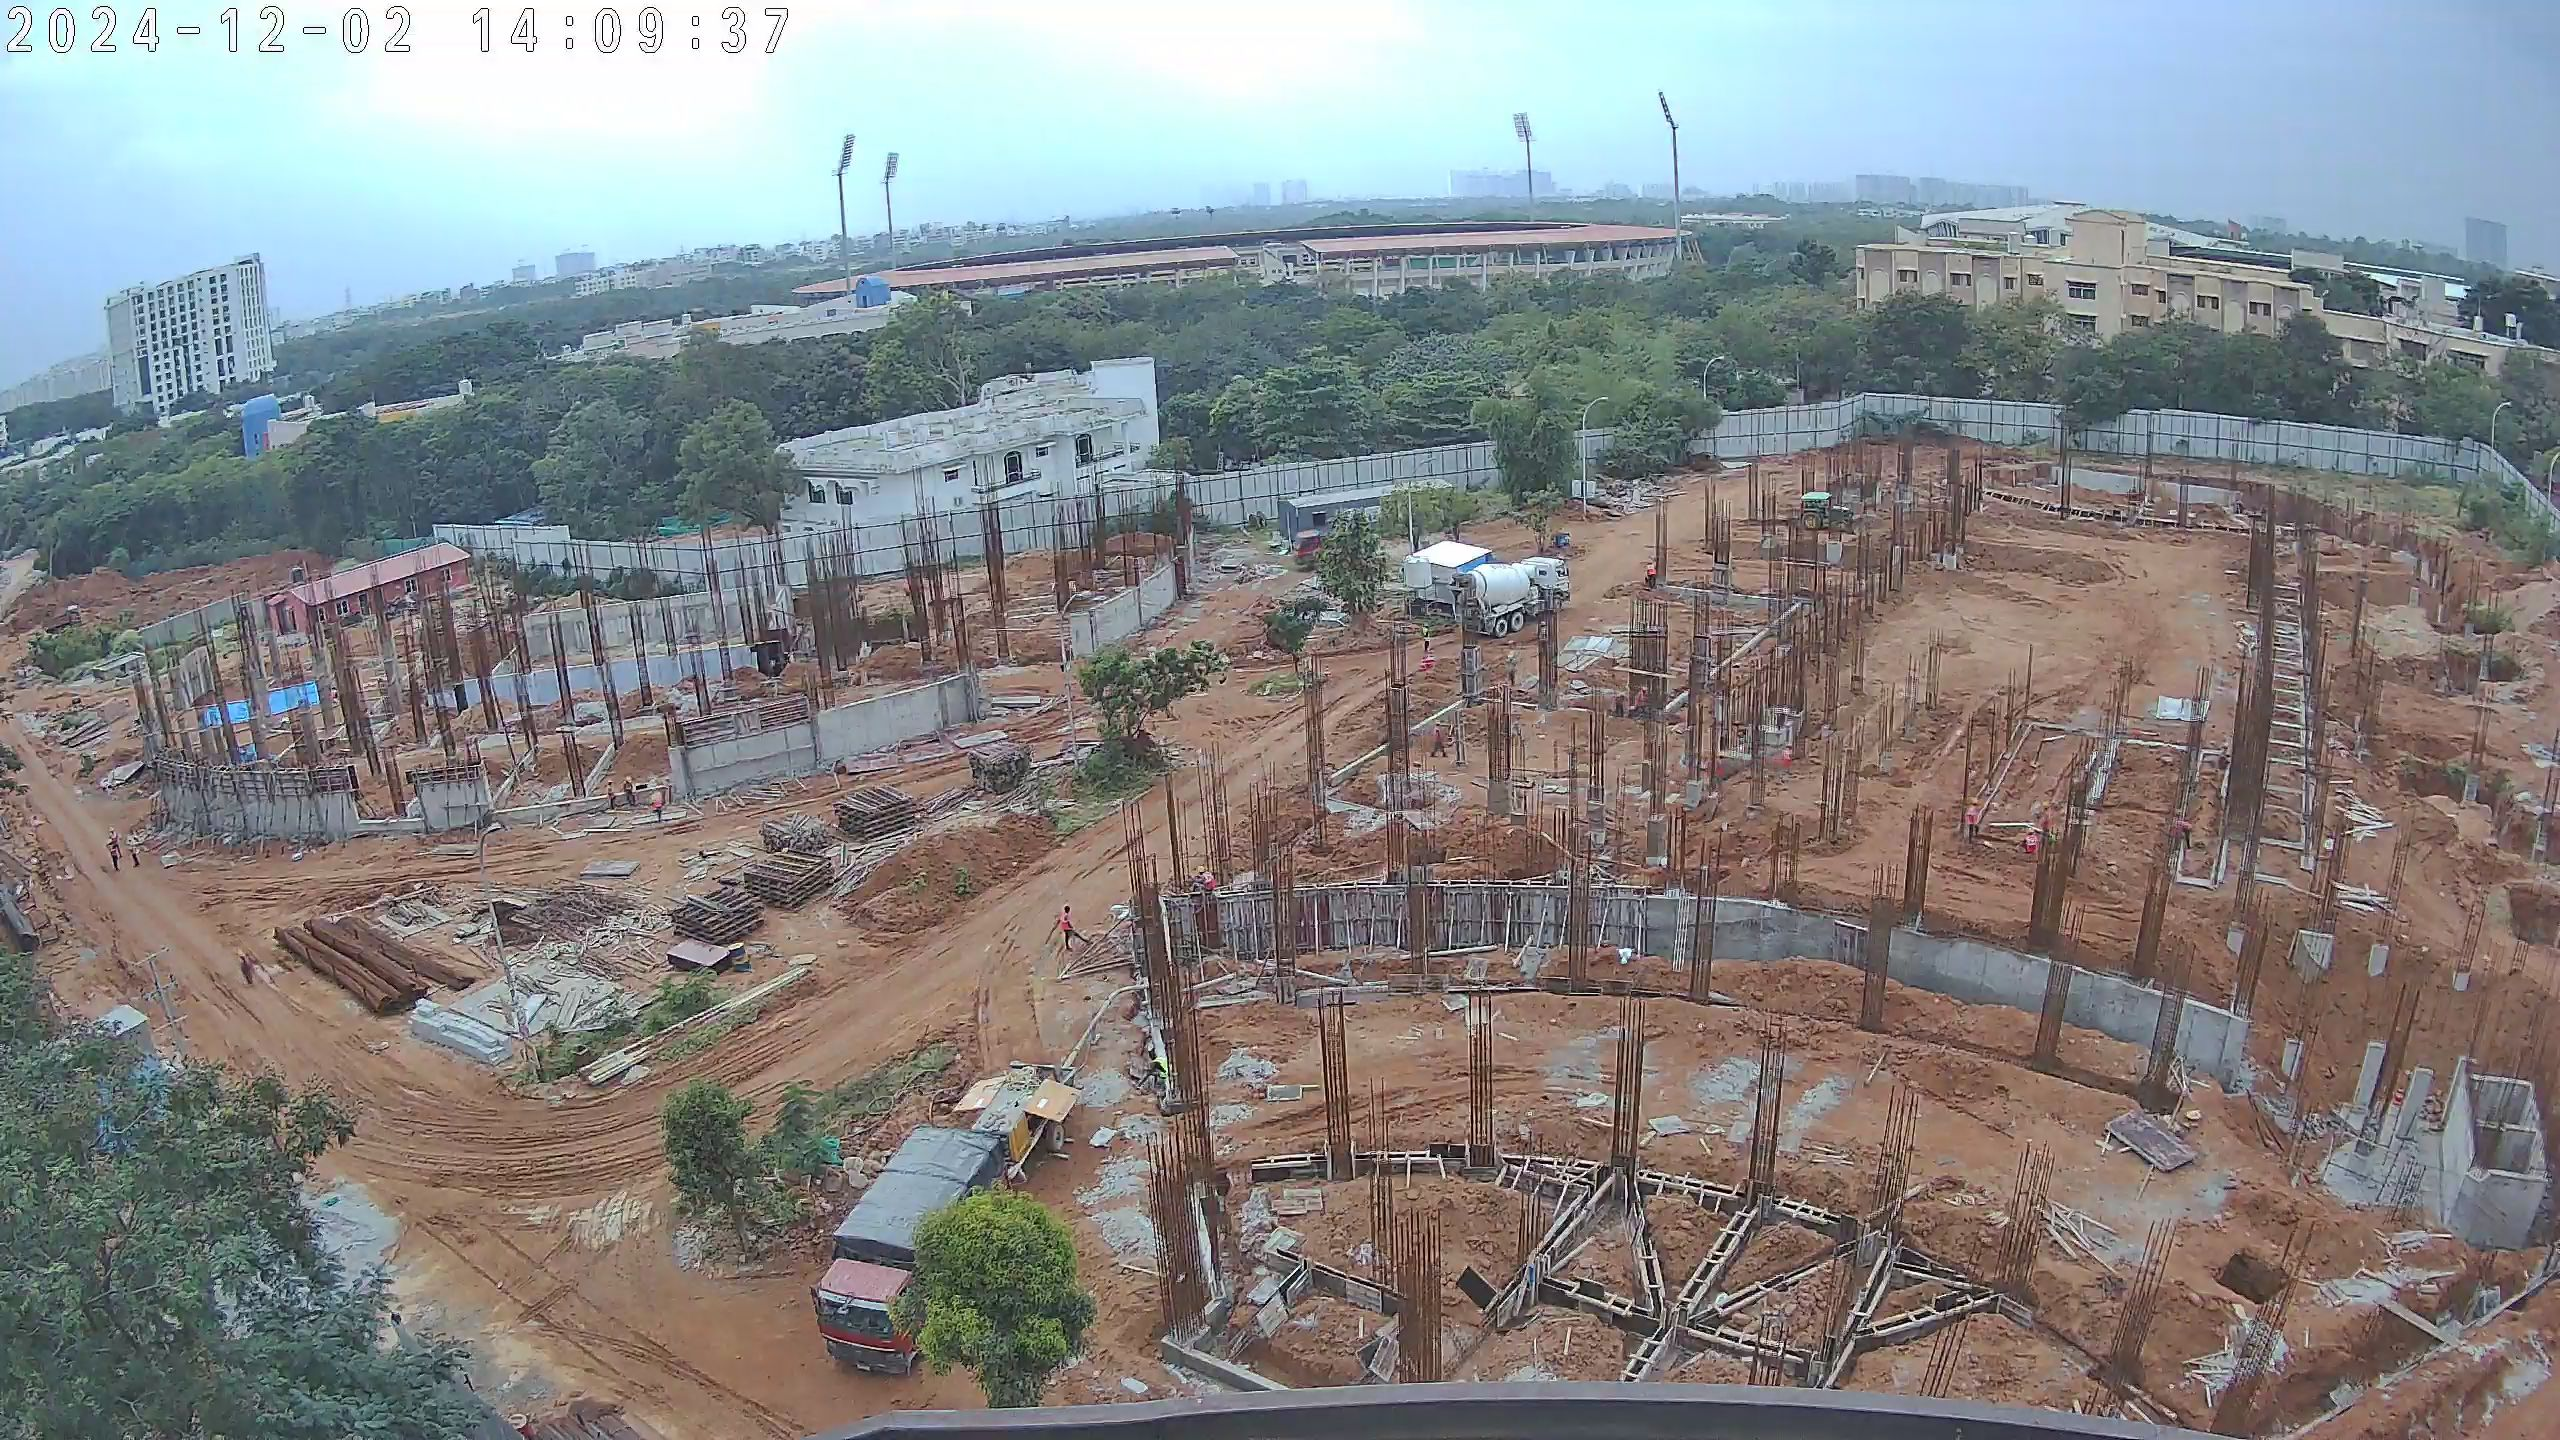bulldozer: (1799, 491, 1856, 535)
truck: (812, 1049, 1068, 1387), (1460, 556, 1577, 635)
worker: (1052, 900, 1087, 964), (1960, 795, 1985, 852), (1182, 862, 1221, 898), (2165, 811, 2198, 852), (2016, 822, 2041, 872), (1425, 720, 1447, 762), (122, 832, 145, 870), (1501, 644, 1520, 689), (1632, 680, 1651, 721), (105, 823, 125, 861), (621, 773, 641, 809), (647, 789, 667, 825), (1643, 555, 1661, 591), (1418, 618, 1433, 661), (1610, 685, 1627, 720), (603, 775, 619, 812), (104, 838, 121, 872)
